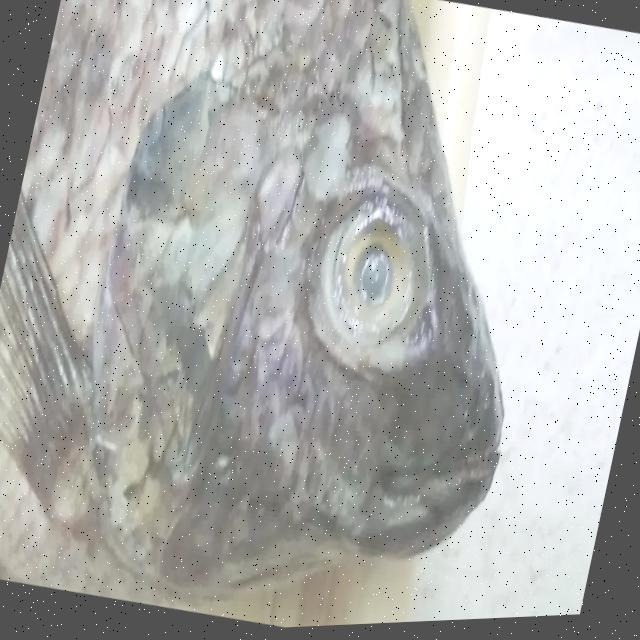Non-Fresh: (288, 180, 447, 380)
